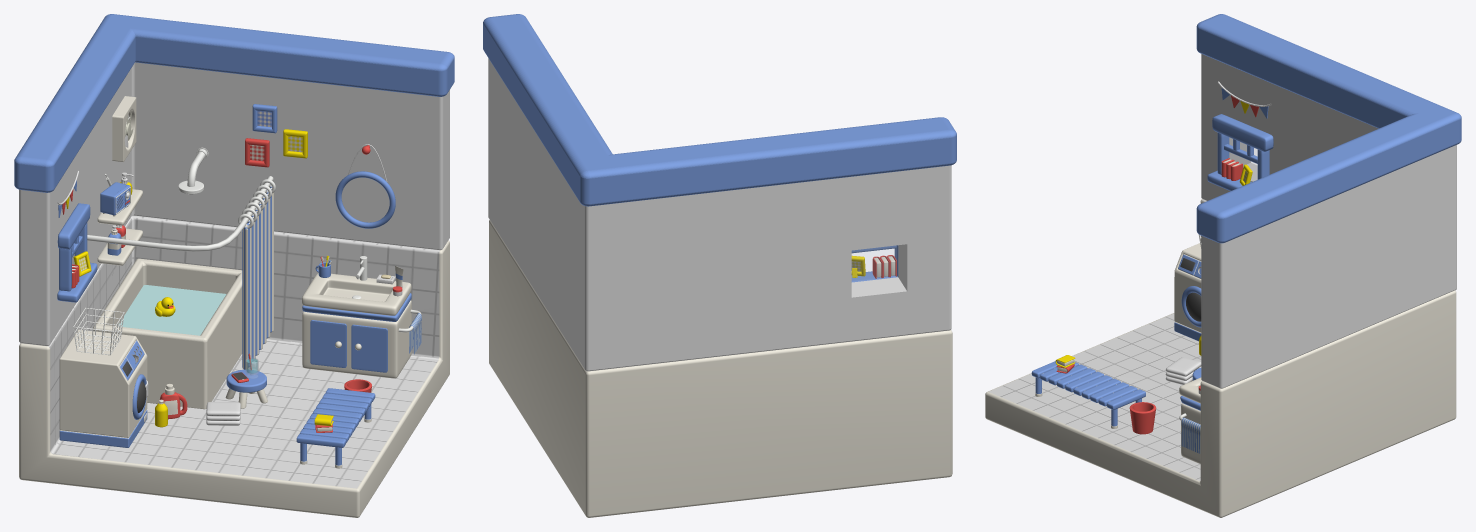
File: bathroom_compressed.glb
The picture shows the model from 3 angles, left to right: view 1: azimuth 30°, elevation 25°; view 2: azimuth 150°, elevation 25°; view 3: azimuth 270°, elevation 25°; orthographic projection. The views are drawn at different scales.
Parts seen in each view (by area): view 1: Cube.052, Cube.034, Cube.012, Cube, Plane.012, Plane.002, Cube.001, Cube.019, Cube.011, Cube.010, Cube.047, Circle.012 (+15 smaller); view 2: Cube.034, Cube.052, Cube.012, Plane.015; view 3: Cube.052, Cube.034, Cube.012, Cube.047, Plane.012, Cube.035, Cylinder.042, Cube.029, Cube.030, Plane.004.
Part boxes in pixels (x1,y1,x2,y2): Cube.052: [19, 215, 449, 517]; Cube.034: [19, 62, 449, 345]; Cube.012: [14, 14, 454, 192]; Cube: [93, 258, 242, 409]; Plane.012: [59, 329, 147, 447]; Plane.002: [242, 185, 273, 369]; Cube.001: [118, 285, 226, 335]; Cube.019: [310, 320, 387, 372]; Cube.011: [302, 273, 411, 315]; Cube.010: [302, 300, 411, 378]; Cube.047: [296, 388, 375, 447]; Circle.012: [341, 177, 395, 222]; Cube.034: [488, 58, 951, 371]; Cube.052: [489, 220, 952, 517]; Cube.012: [483, 14, 956, 206]; Plane.015: [852, 246, 897, 281]; Cube.052: [985, 199, 1456, 517]; Cube.034: [1201, 54, 1456, 388]; Cube.012: [1196, 14, 1461, 243]; Cube.047: [1031, 361, 1145, 409]; Plane.012: [1174, 243, 1201, 341]; Cube.035: [1212, 114, 1273, 151]; Cylinder.042: [1129, 402, 1156, 434]; Cube.029: [1217, 132, 1269, 179]; Cube.030: [1165, 357, 1201, 384]; Plane.004: [1181, 417, 1200, 453].
Size of the model in its own units: 3.17 by 2.23 by 3.15.
23 materials, 1 textured.
